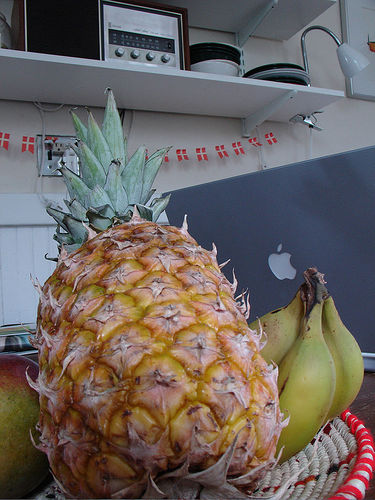pineapple: (26, 85, 292, 498)
